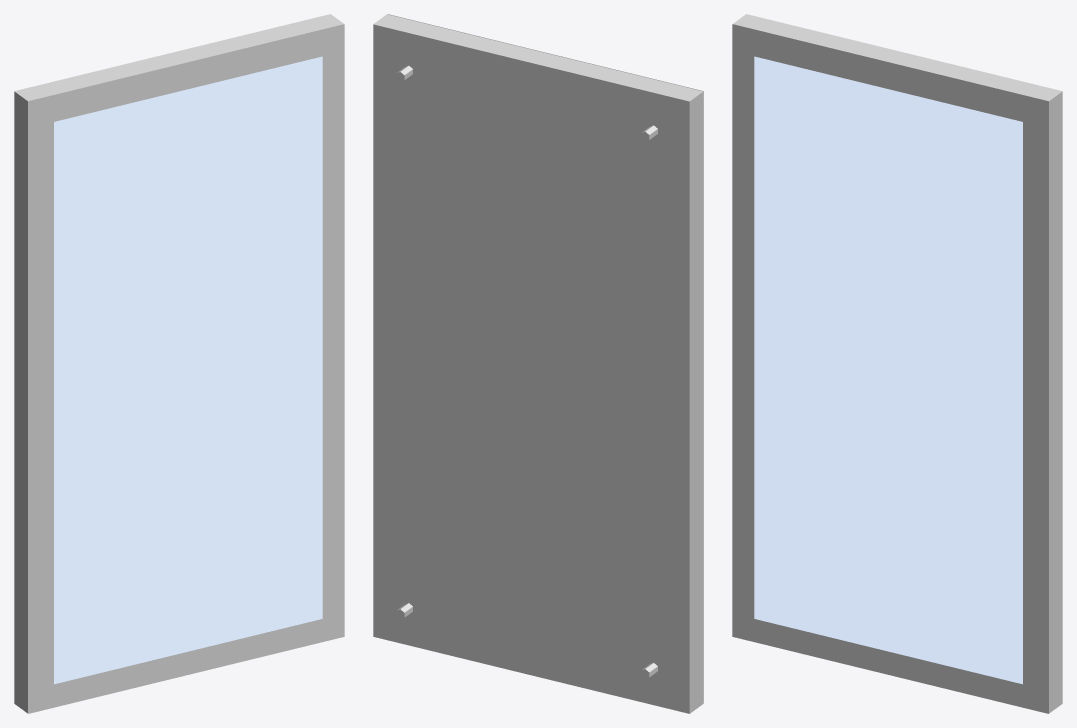
The model's file is sign_chaya_vertical.glb.
The picture shows the model from 3 angles, left to right: view 1: azimuth 30°, elevation 25°; view 2: azimuth 150°, elevation 25°; view 3: azimuth 330°, elevation 25°; orthographic projection.
Parts seen in each view (by area): view 1: sign_chaya_vertical_LOD0; view 2: sign_chaya_vertical_LOD0; view 3: sign_chaya_vertical_LOD0.
Part boxes in pixels (box(x1,y1,x2,y2)): sign_chaya_vertical_LOD0: box(14, 14, 344, 713); sign_chaya_vertical_LOD0: box(373, 14, 703, 713); sign_chaya_vertical_LOD0: box(732, 14, 1062, 713).
Size of what is drawn, in the model's own units: 0.53 by 0.98 by 0.071.
